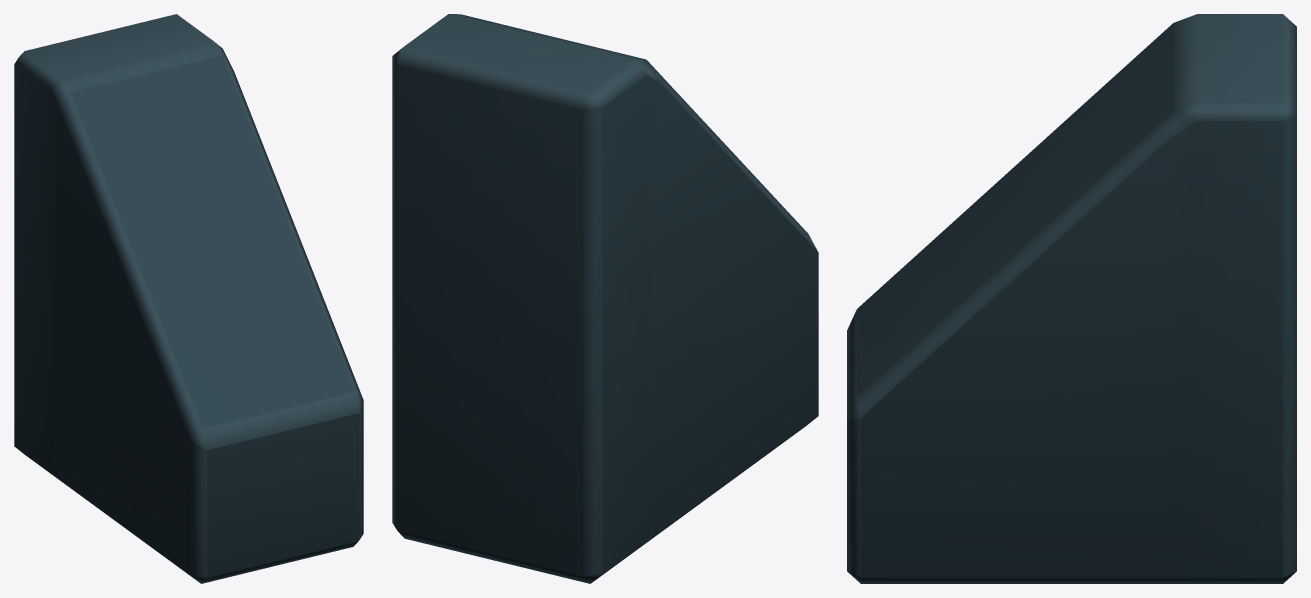
Rendered from stair_sidewall4.fbx.
3 views of the same model, side by side, from view 1: azimuth 30°, elevation 25°; view 2: azimuth 150°, elevation 25°; view 3: azimuth 270°, elevation 25° (orthographic). The views are drawn at different scales.
Visible parts, largest first — view 1: stair_sidewall4; view 2: stair_sidewall4; view 3: stair_sidewall4.
Part boxes in pixels (box(x1,y1,x2,y2)): stair_sidewall4: box(14, 14, 363, 583); stair_sidewall4: box(392, 14, 818, 583); stair_sidewall4: box(847, 14, 1296, 583).
Bounding box in the file's own units: 53.12 × 119 × 101.
